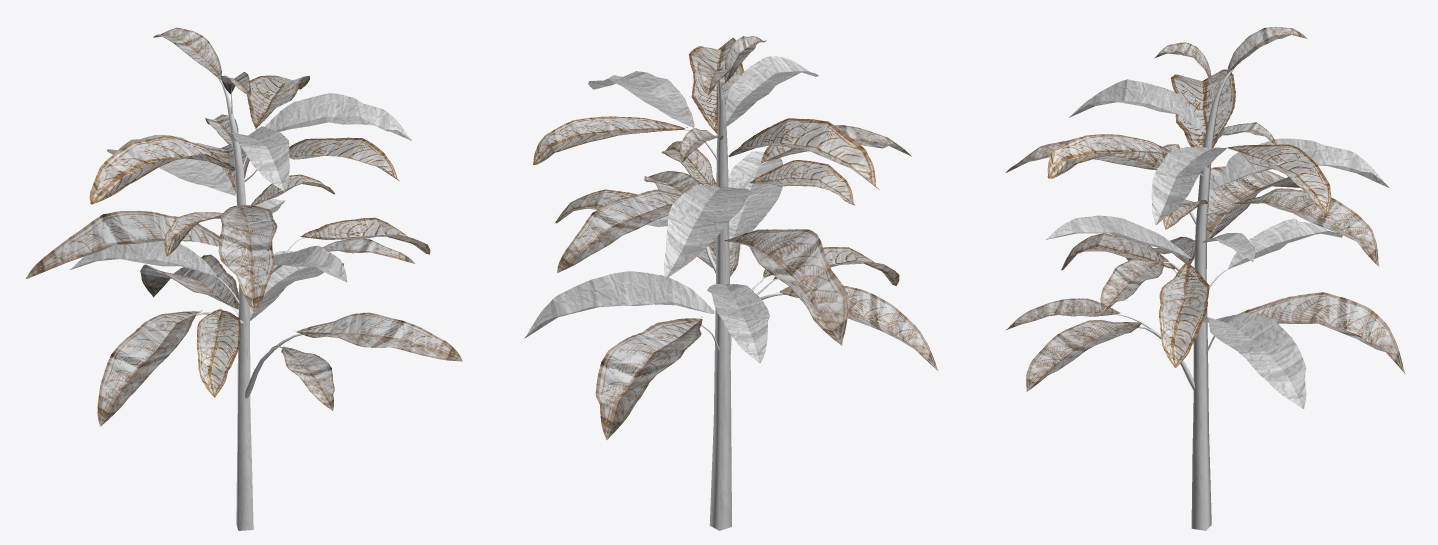
The model's file is saplingwstem.gltf.
The picture shows the model from 3 angles, left to right: view 1: azimuth 30°, elevation 25°; view 2: azimuth 150°, elevation 25°; view 3: azimuth 270°, elevation 25°; orthographic projection. The views are drawn at different scales.
Parts seen in each view (by area): view 1: tree.022, ppleaf-full.020, ppleaf-full.019, ppleaf-full.010, ppleaf-full.017, ppleaf-mid.013, ppleaf-none.006, ppleaf-mid.015, ppleaf-full.014, ppleaf-none.015, ppleaf-none.014, ppleaf-mid.011 (+11 smaller); view 2: tree.022, ppleaf-full.019, ppleaf-full.014, ppleaf-none.003, ppleaf-none.005, ppleaf-full.006, ppleaf-mid.013, ppleaf-none.015, ppleaf-mid.014, ppleaf-none.002, ppleaf-full.020, ppleaf-none.014 (+11 smaller); view 3: tree.022, ppleaf-none.003, ppleaf-full.014, ppleaf-mid.002, ppleaf-full.006, ppleaf-full.017, ppleaf-none.006, ppleaf-mid.013, ppleaf-mid.014, ppleaf-none.005, ppleaf-full.019, ppleaf-mid.011 (+12 smaller).
Boxes of the visible parts, x1,y1,x2,y2 form: tree.022: (196,78,308,530); ppleaf-full.020: (97,310,202,426); ppleaf-full.019: (26,210,219,278); ppleaf-full.010: (218,204,277,313); ppleaf-full.017: (294,312,462,361); ppleaf-mid.013: (89,135,235,204); ppleaf-none.006: (265,93,411,140); ppleaf-mid.015: (197,307,240,397); ppleaf-full.014: (140,254,238,309); ppleaf-none.015: (70,241,216,275); ppleaf-none.014: (226,126,289,191); ppleaf-mid.011: (289,137,399,180); tree.022: (681,80,785,530); ppleaf-full.019: (724,229,848,345); ppleaf-full.014: (595,316,702,440); ppleaf-none.003: (524,271,714,338); ppleaf-none.005: (664,184,750,279); ppleaf-full.006: (557,189,681,272); ppleaf-mid.013: (728,118,879,189); ppleaf-none.015: (707,283,769,363); ppleaf-mid.014: (533,116,687,164); ppleaf-none.002: (728,151,782,250); ppleaf-full.020: (776,285,938,370); ppleaf-none.014: (725,56,818,125); tree.022: (1115,67,1239,530); ppleaf-none.003: (1202,312,1306,408); ppleaf-full.014: (1239,292,1405,374); ppleaf-mid.002: (1159,260,1209,367); ppleaf-full.006: (1228,188,1379,266); ppleaf-full.017: (1026,320,1141,391); ppleaf-none.006: (1151,147,1226,224); ppleaf-mid.013: (1170,69,1235,148); ppleaf-mid.014: (1227,144,1331,215); ppleaf-none.005: (1209,138,1389,189); ppleaf-full.019: (1207,166,1299,238); ppleaf-mid.011: (1047,134,1171,178).
Size of the model in its own units: 0.8379 by 1.01 by 0.8356.
Materials: 4 (4 with a texture image).
